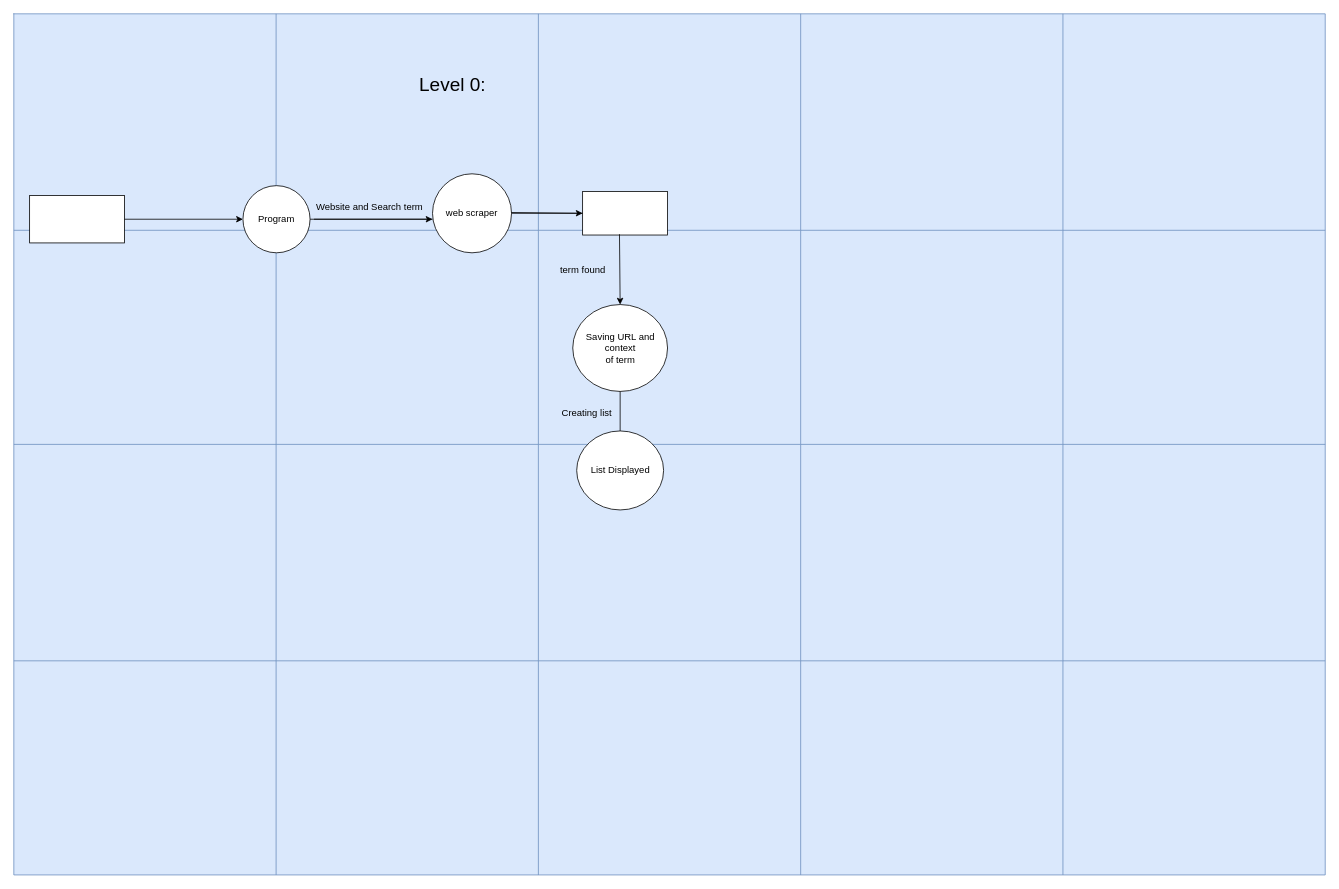
The diagram is 1339 pixels wide and 889 high, and some of its shapes have lost their labels. The centre of each missing label's shape, as x and y in pixels:
User: pixel 76 219
Web: pixel 625 213
